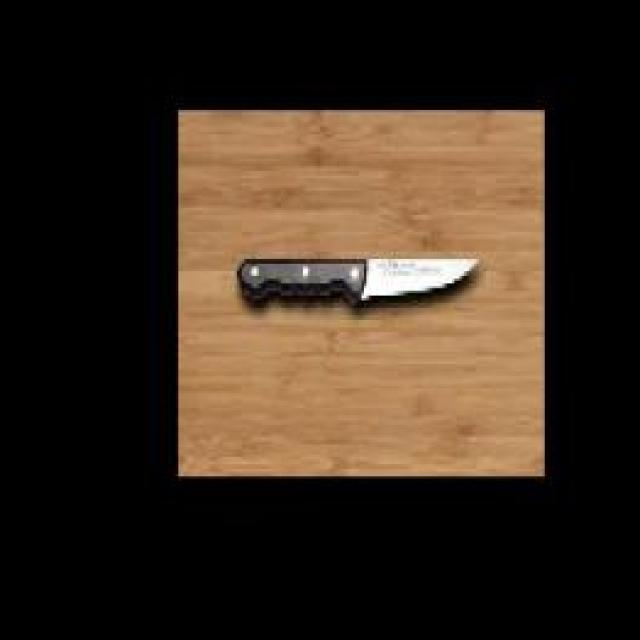knife: (232, 238, 479, 310)
